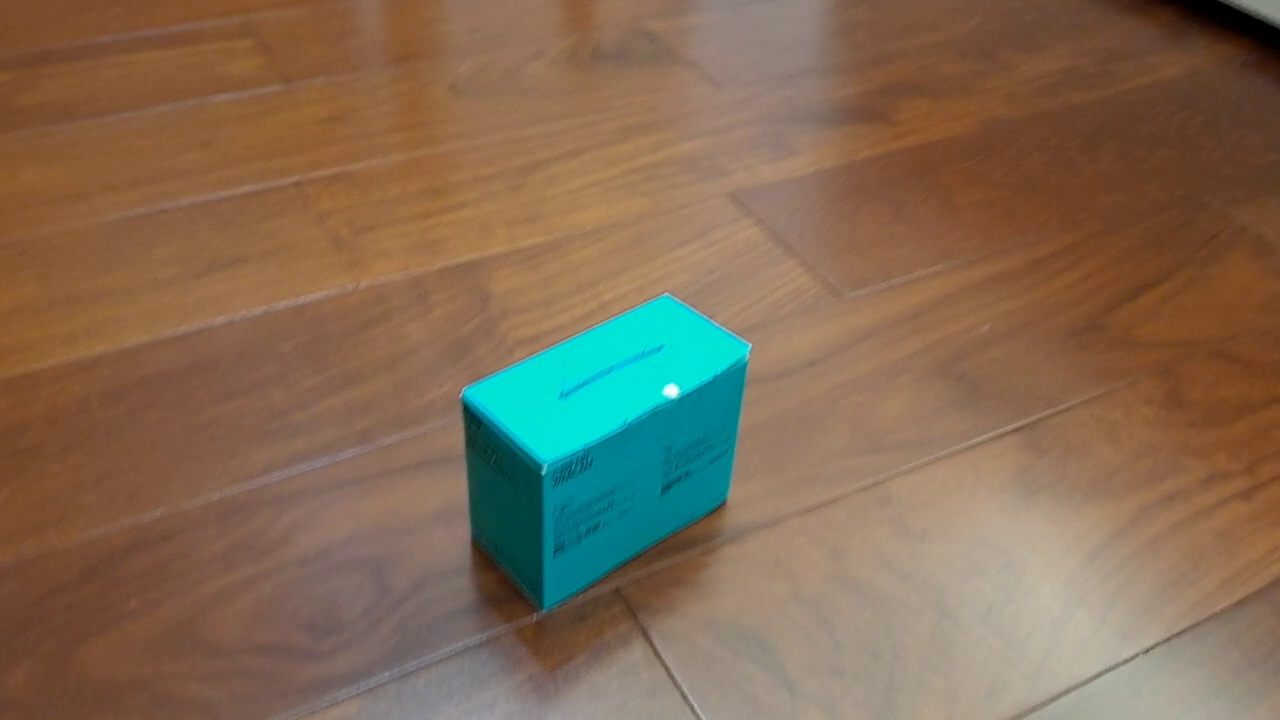webcam: (457, 289, 754, 615)
